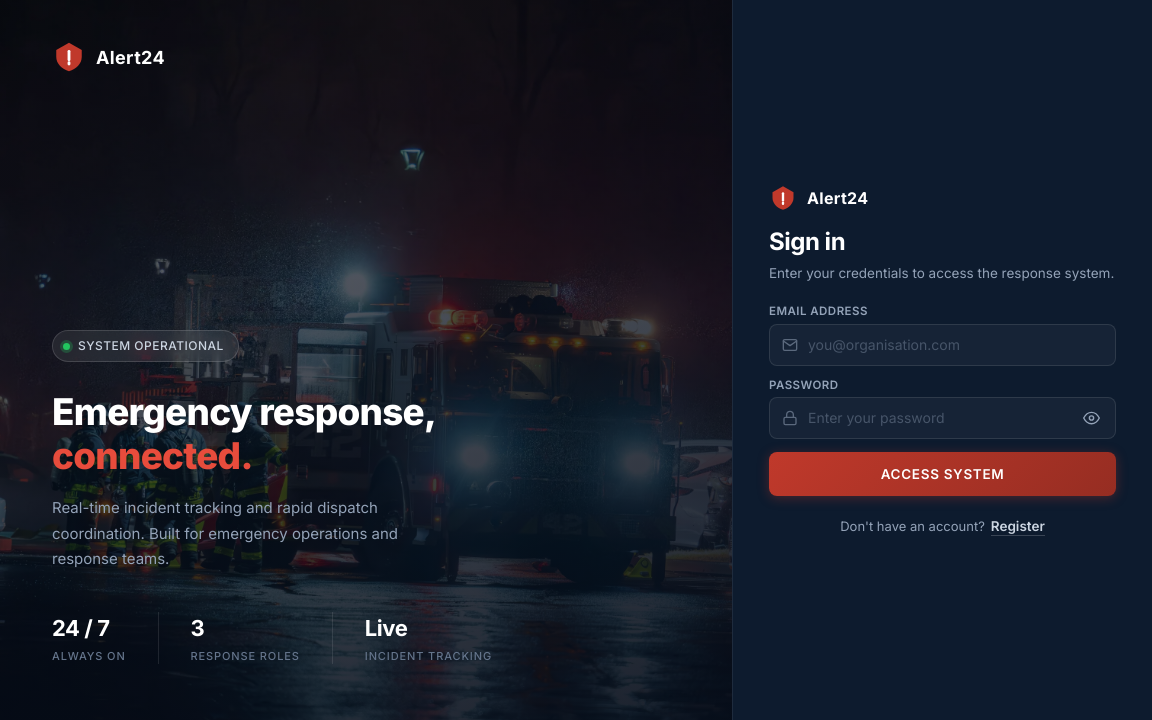
Test case: Alert24 Login and Signup Validation and UI Refinements › login: handles invalid credentials with safe, generic message
The width and height of the screenshot is (1152, 720).
Type "user@example.com" into the field labelled "Email address" at (942, 344), box [769,324,1116,366]
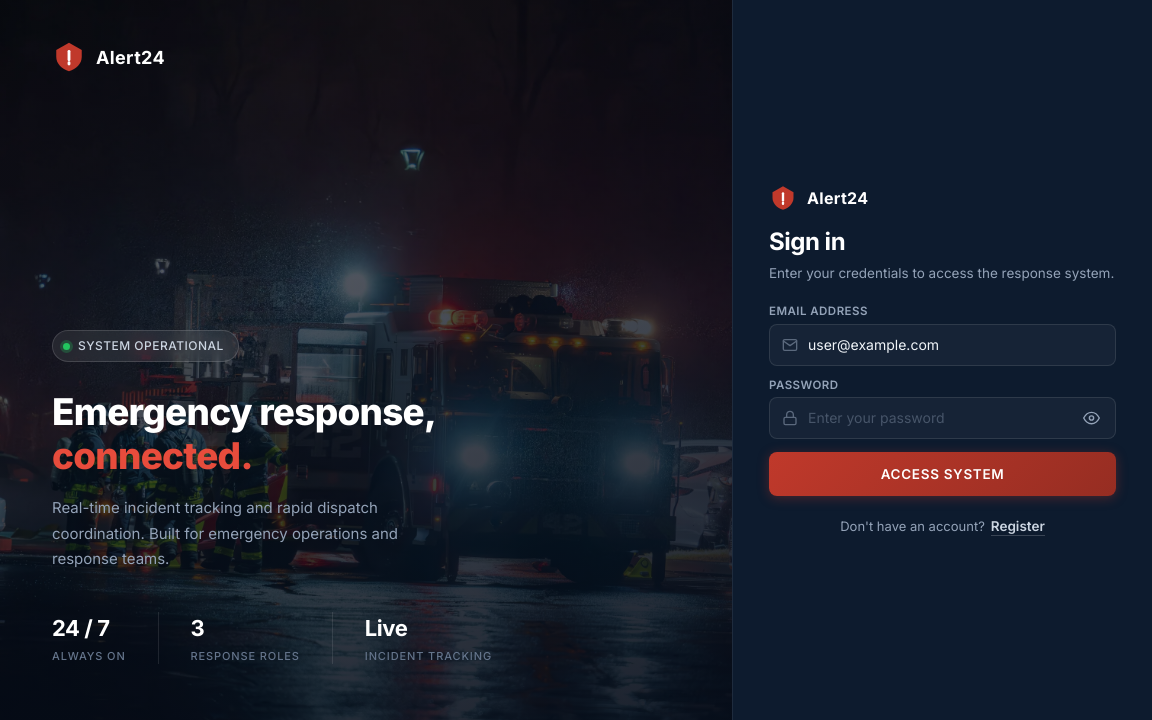
Type "wrongpassword" into the password field labelled "Password" at (942, 418), box [769,397,1116,439]
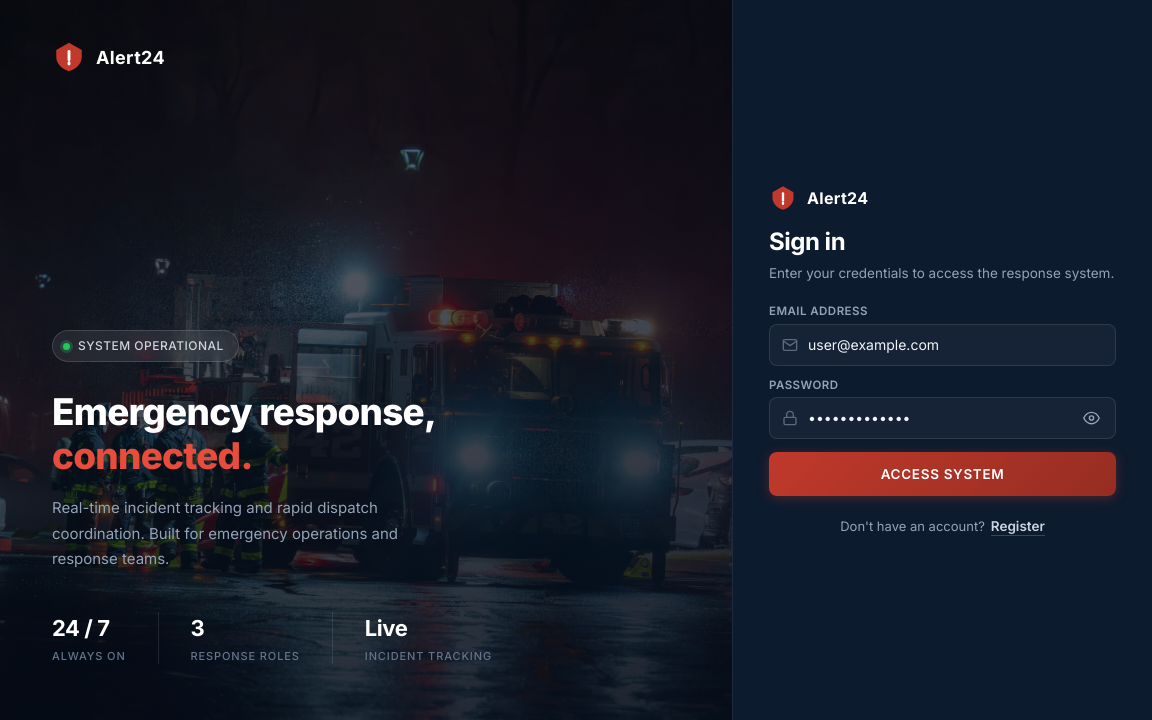
Click the button "Access System" at (942, 474), box [769,452,1116,496]
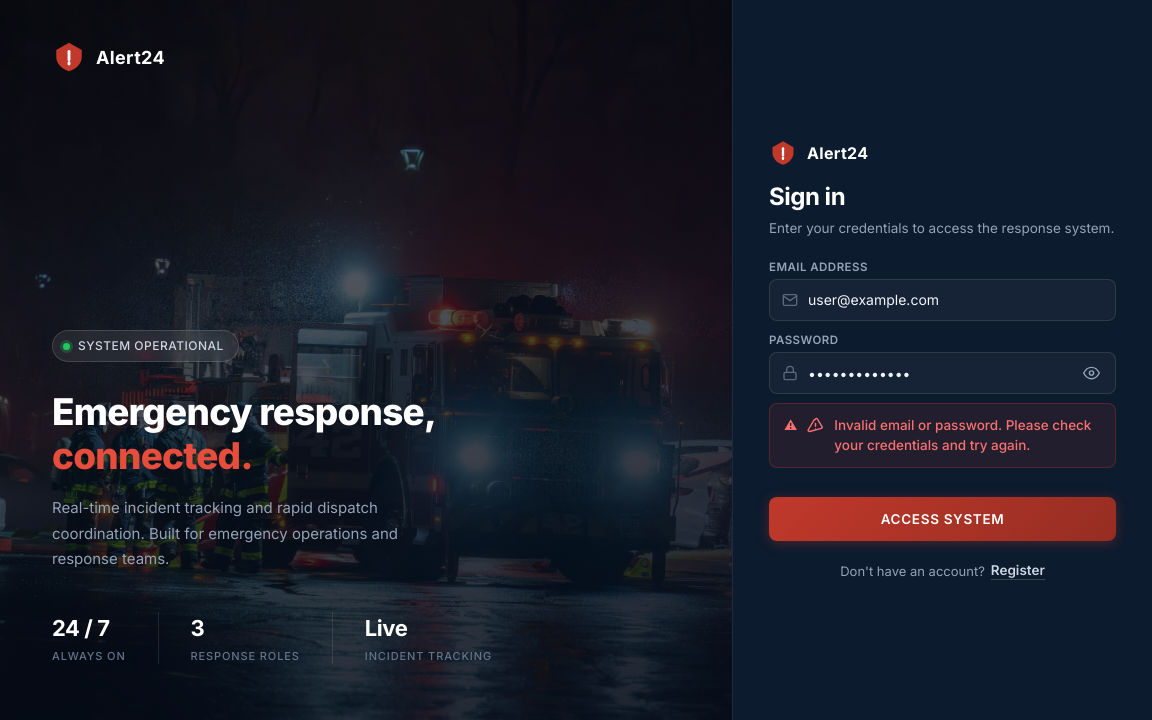
Expected: the text "Invalid email or password. Please check your credentials and try again." is shown, [834,415,1101,456]
